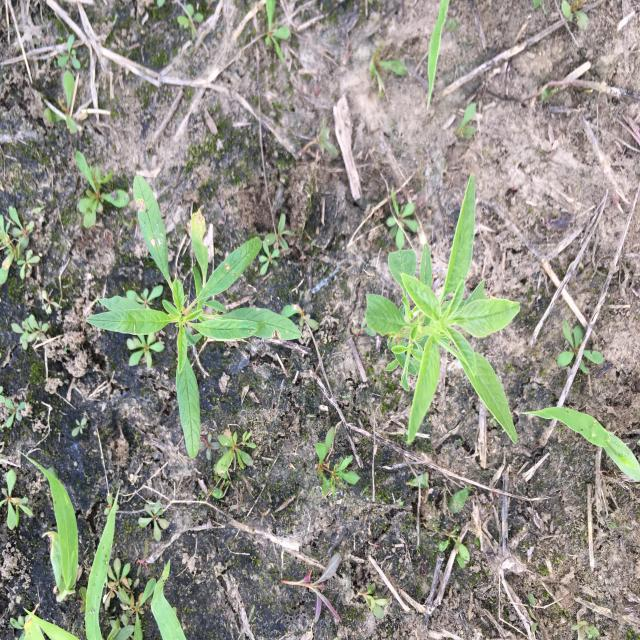Carpetweed: (73, 150, 131, 230), (122, 282, 169, 371), (0, 202, 42, 288), (314, 423, 360, 499), (555, 314, 606, 374), (383, 186, 423, 255), (254, 212, 295, 278), (214, 427, 257, 480), (0, 468, 35, 532), (8, 310, 48, 350), (138, 498, 172, 542)
Waterhemp: (84, 173, 304, 462), (364, 170, 522, 447)
